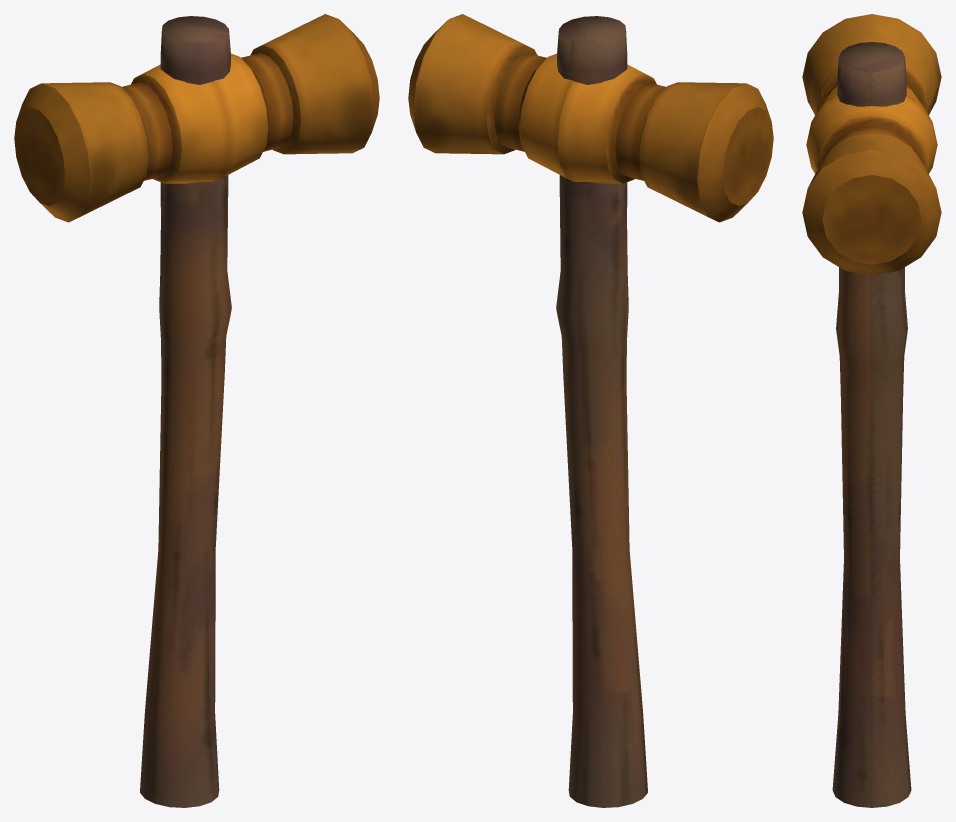
The model's file is Hammer_Small_Bronze.gltf.
3 renders of one model, left to right at view 1: azimuth 30°, elevation 25°; view 2: azimuth 150°, elevation 25°; view 3: azimuth 270°, elevation 25°, orthographic. The views are drawn at different scales.
Visible parts, largest first — view 1: Hammer_Small_Bronze; view 2: Hammer_Small_Bronze; view 3: Hammer_Small_Bronze.
Part boxes in pixels (bbox=[...]): Hammer_Small_Bronze: bbox=[14, 14, 379, 807]; Hammer_Small_Bronze: bbox=[408, 14, 773, 807]; Hammer_Small_Bronze: bbox=[802, 14, 941, 807].
Bounding box in the file's own units: 0.1519 × 0.3506 × 0.0596.
1 material, 1 textured.
